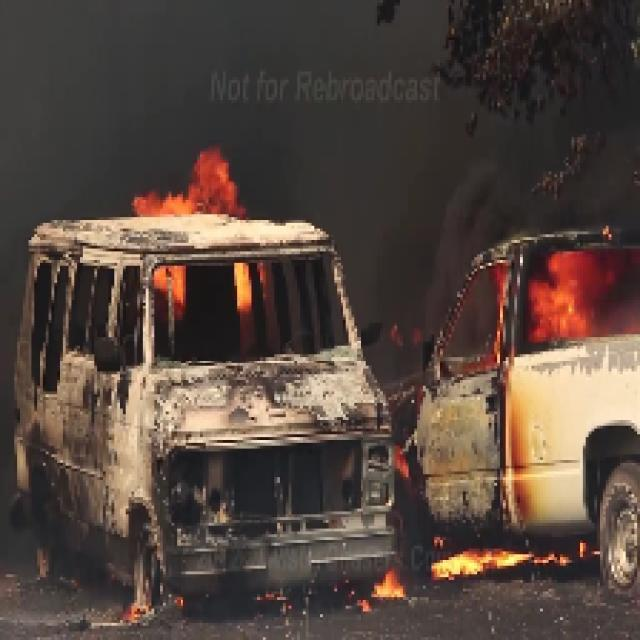Fire: (488, 238, 638, 346)
Smoke: (8, 23, 200, 148)
